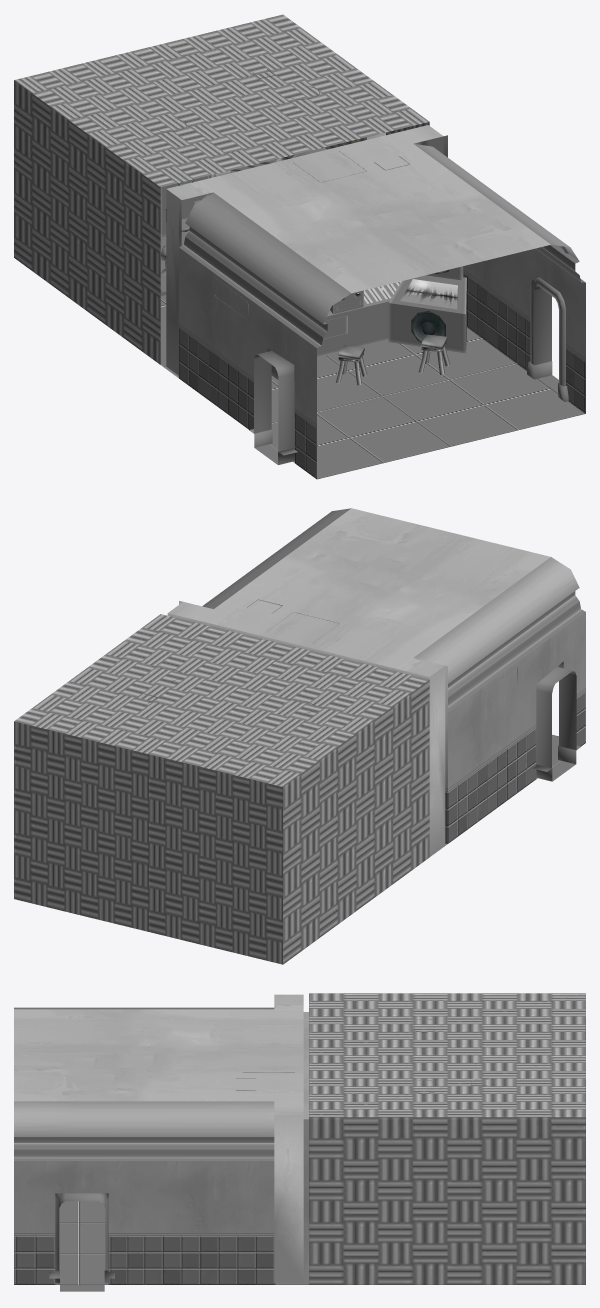
Rendered from MSH_Radio_station_room_L3_R1_optimized.fbx.
The picture shows the model from 3 angles, top to bottom: view 1: azimuth 30°, elevation 25°; view 2: azimuth 150°, elevation 25°; view 3: azimuth 270°, elevation 25°; orthographic projection. The views are drawn at different scales.
Visible parts, largest first — view 1: lightmap1, lightmap0; view 2: lightmap1; view 3: lightmap1.
Boxes of the visible parts, bbox=[...] form: lightmap1: bbox=[14, 14, 585, 479]; lightmap0: bbox=[155, 69, 466, 385]; lightmap1: bbox=[14, 508, 585, 964]; lightmap1: bbox=[14, 993, 585, 1291].
Bounding box in the file's own units: 10.3 × 6.21 × 18.13.
Materials: 5 (3 with a texture image).
